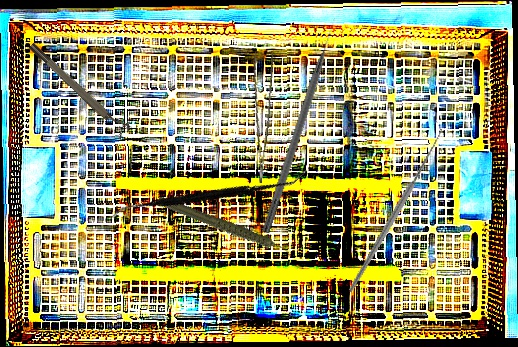Fixation Ring: (27, 37, 132, 140)
Handpiece: (155, 171, 294, 285)
Hook Surgical: (297, 120, 491, 294), (260, 16, 341, 235)
Spatula Surgical: (110, 98, 307, 289)
Tissue Forceps: (237, 50, 280, 184)
